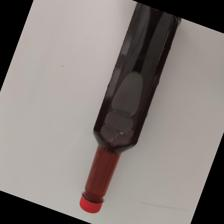Namngu: (80, 2, 182, 217)
